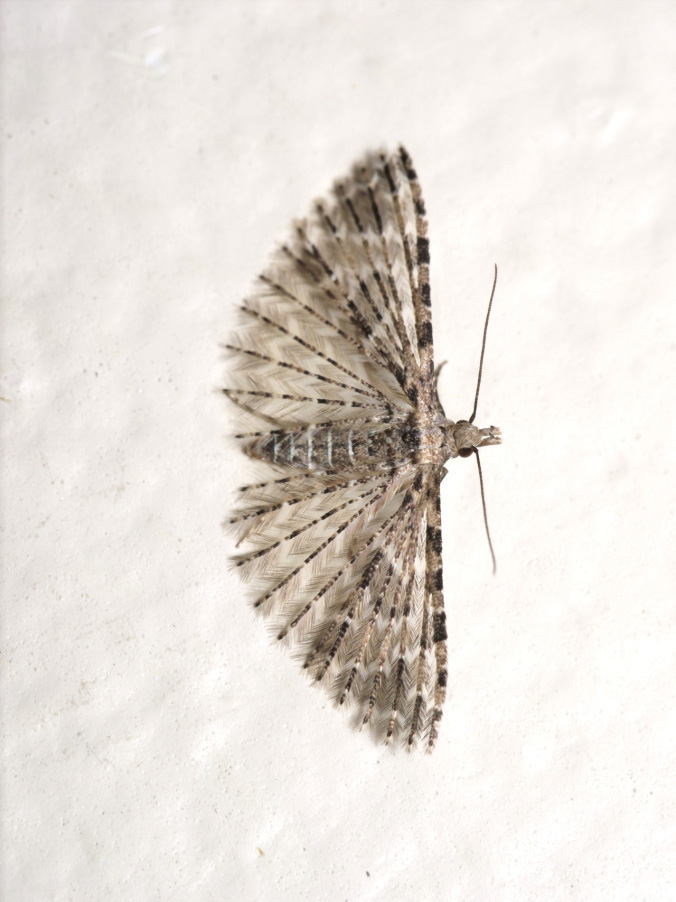Alucitidae: (213, 132, 508, 759)
moth: (215, 134, 510, 761)
